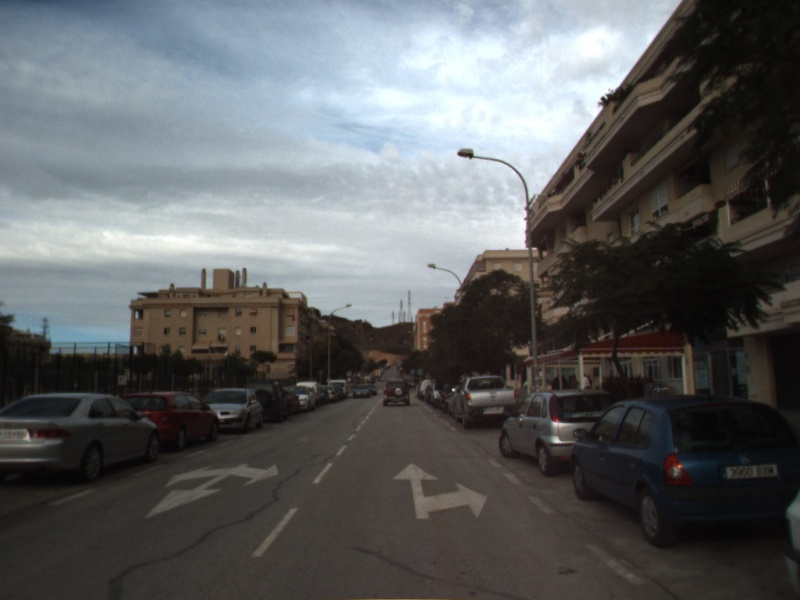STRAIGHT_RIGHT: (390, 461, 489, 521)
